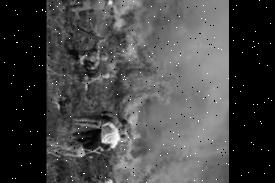fire: (106, 5, 190, 115), (108, 144, 194, 183)
